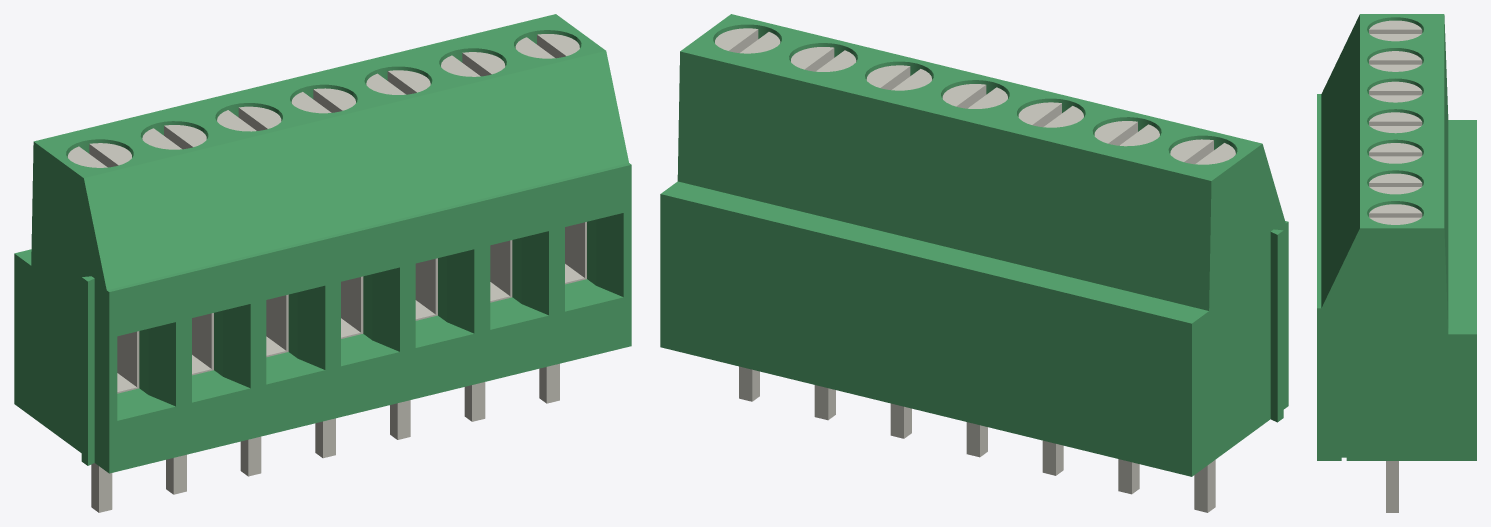
The model's file is kc-terminalblock_phoenix_mkds-3-7-5.08_1x07_p5.08mm_horizontal.glb.
3 renders of one model, left to right at view 1: azimuth 30°, elevation 25°; view 2: azimuth 150°, elevation 25°; view 3: azimuth 270°, elevation 25°, orthographic. The views are drawn at different scales.
Parts seen in each view (by area): view 1: 0.08333333333333333_0.4166666666666667_0.16666666666666666_0, 0.6666666666666666_0.6666666666666666_0.5833333333333334_0.8; view 2: 0.08333333333333333_0.4166666666666667_0.16666666666666666_0, 0.6666666666666666_0.6666666666666666_0.5833333333333334_0.8; view 3: 0.08333333333333333_0.4166666666666667_0.16666666666666666_0, 0.6666666666666666_0.6666666666666666_0.5833333333333334_0.8.
Part boxes in pixels (x1,y1,x2,y2): 0.08333333333333333_0.4166666666666667_0.16666666666666666_0: (14, 14, 631, 473); 0.6666666666666666_0.6666666666666666_0.5833333333333334_0.8: (67, 34, 586, 512); 0.08333333333333333_0.4166666666666667_0.16666666666666666_0: (660, 14, 1288, 476); 0.6666666666666666_0.6666666666666666_0.5833333333333334_0.8: (715, 28, 1235, 512); 0.08333333333333333_0.4166666666666667_0.16666666666666666_0: (1317, 14, 1476, 460); 0.6666666666666666_0.6666666666666666_0.5833333333333334_0.8: (1369, 20, 1422, 512).
Bounding box in the file's own units: 3.61 × 2.3 × 1.12.
